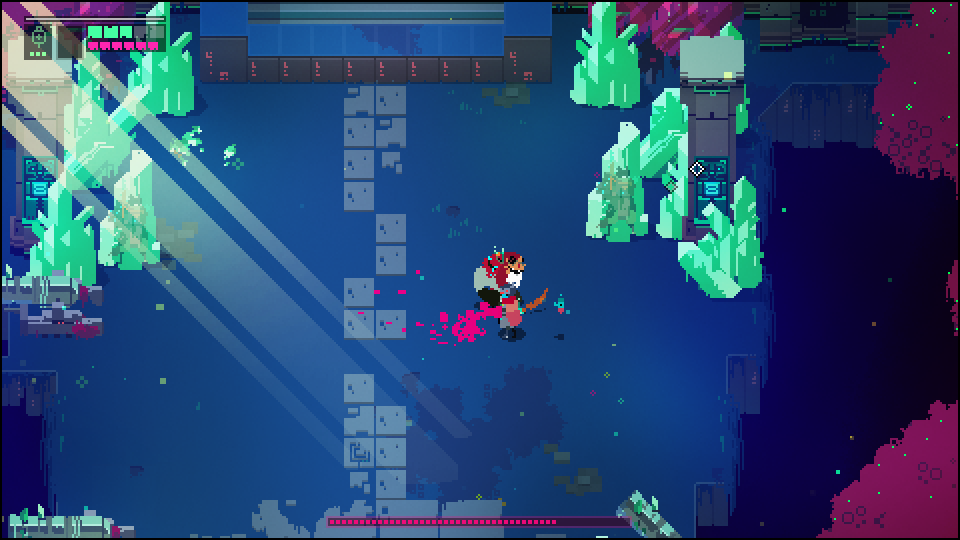hanged_man: (468, 240, 546, 322)
player: (497, 287, 521, 336)
